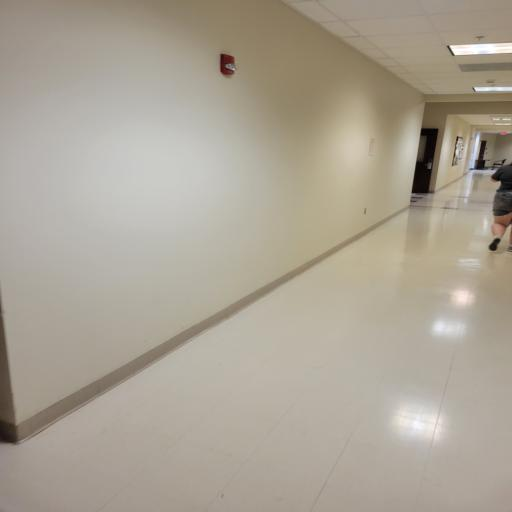fire alarm signal: (215, 47, 242, 79)
